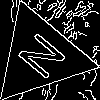N: (15, 30, 76, 88)
